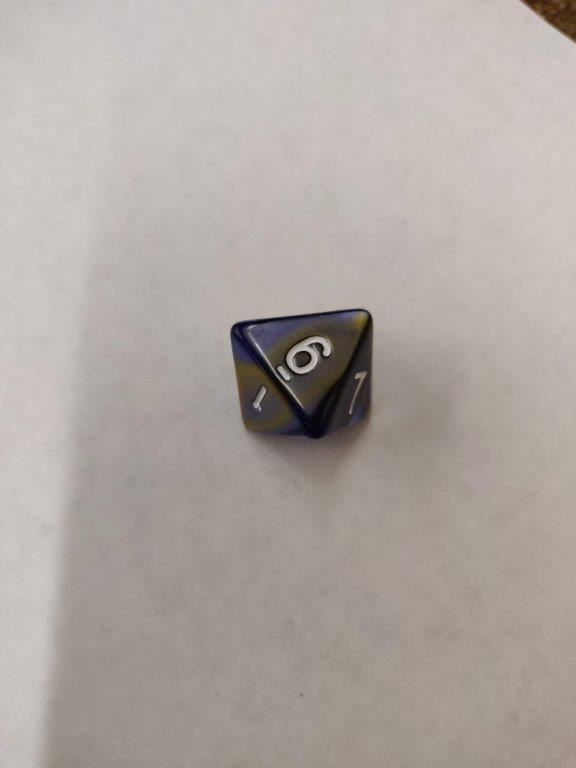d8-6: (233, 309, 374, 435)
